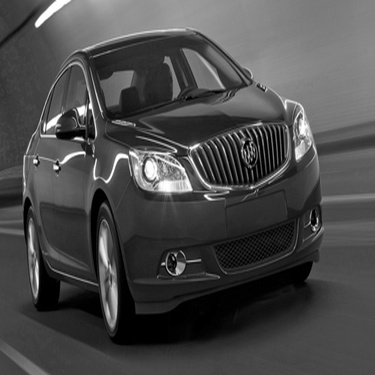car: (12, 21, 325, 348)
